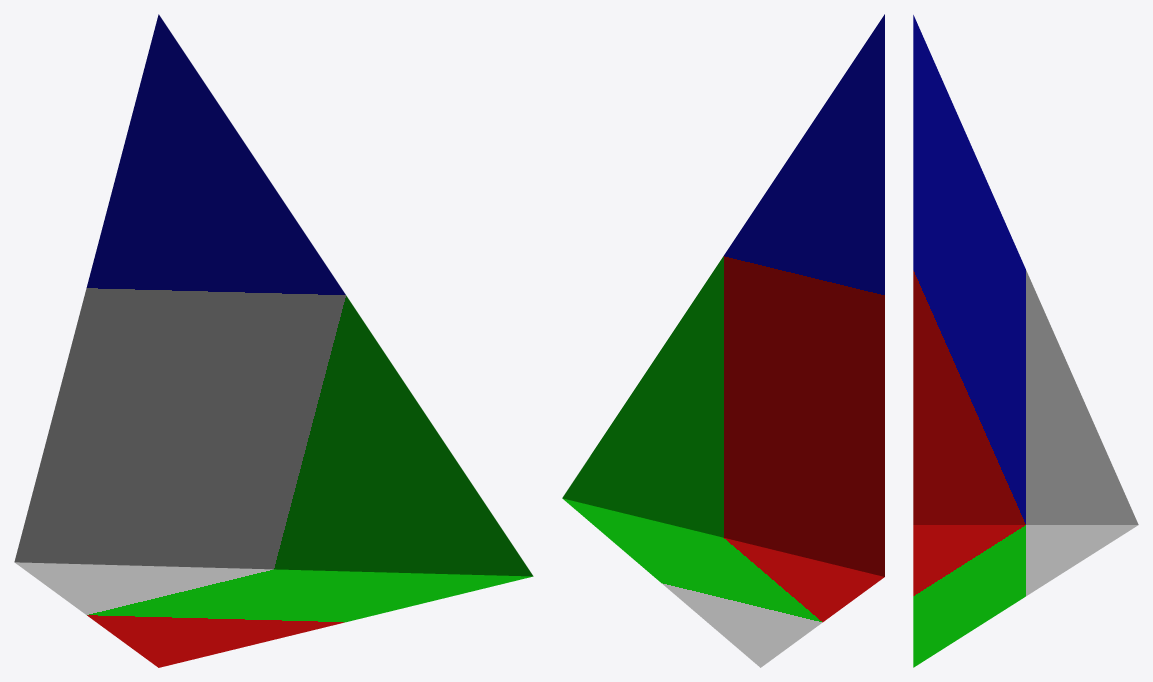
Rendered from baseline.glb.
The picture shows the model from 3 angles, left to right: view 1: azimuth 30°, elevation 25°; view 2: azimuth 150°, elevation 25°; view 3: azimuth 270°, elevation 25°; orthographic projection. The views are drawn at different scales.
Bounding box in the file's own units: 0.06 × 0.1 × 0.04.
1 material, 1 textured.
